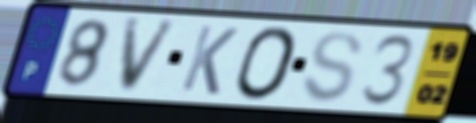3: (359, 32, 417, 108)
8: (56, 16, 114, 90)
K: (177, 22, 242, 98)
O: (233, 24, 301, 103)
S: (299, 29, 365, 106)
V: (117, 17, 183, 96)
